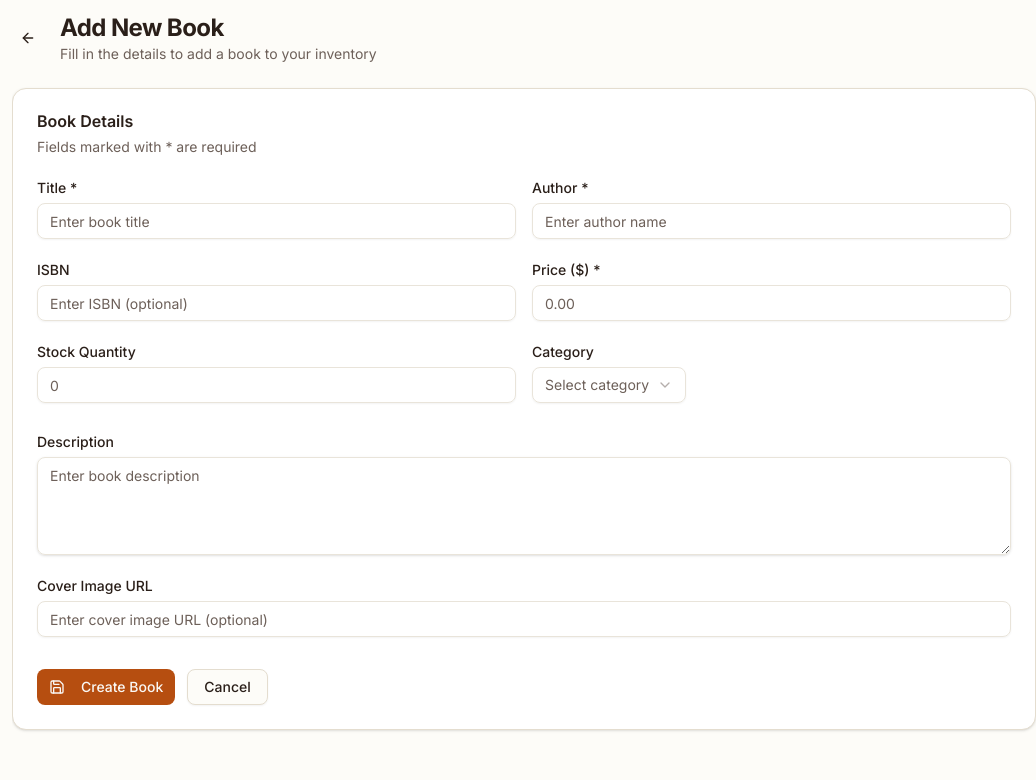
Test: CreateBookPage › should show "Creating..." while submitting
Type "New Book" into the field labelled "Title *".
click(276, 221); type("New Book")  # box [37, 203, 516, 239]
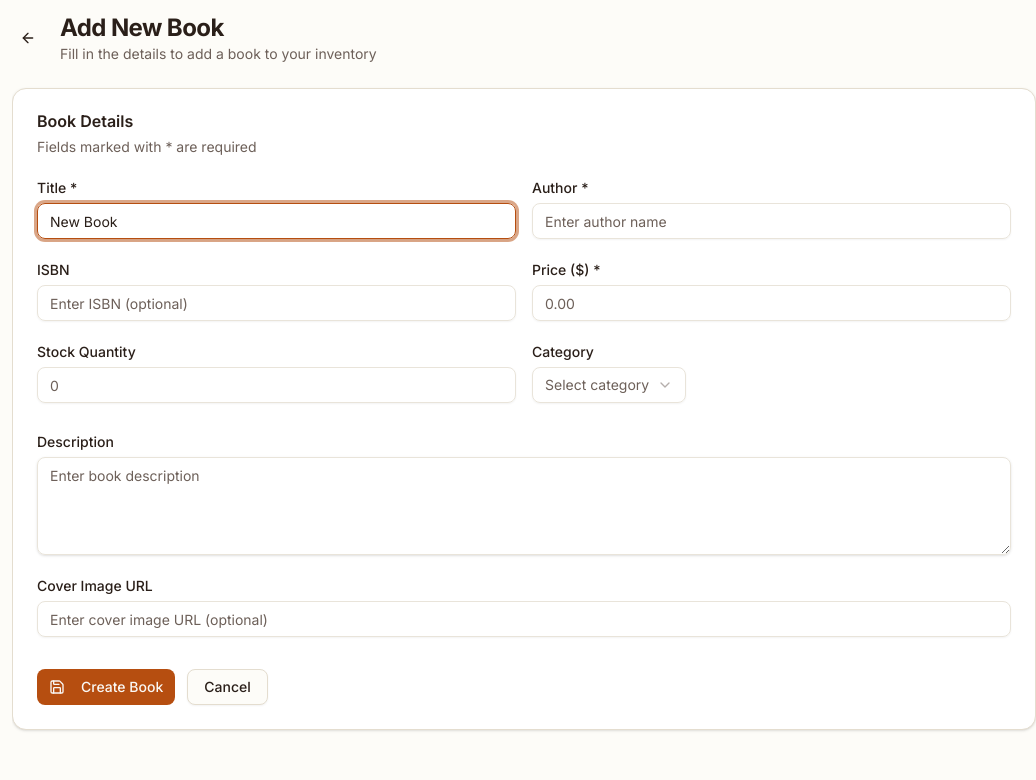
Type "New Author" into the field labelled "Author *".
click(772, 221); type("New Author")  # box [532, 203, 1011, 239]
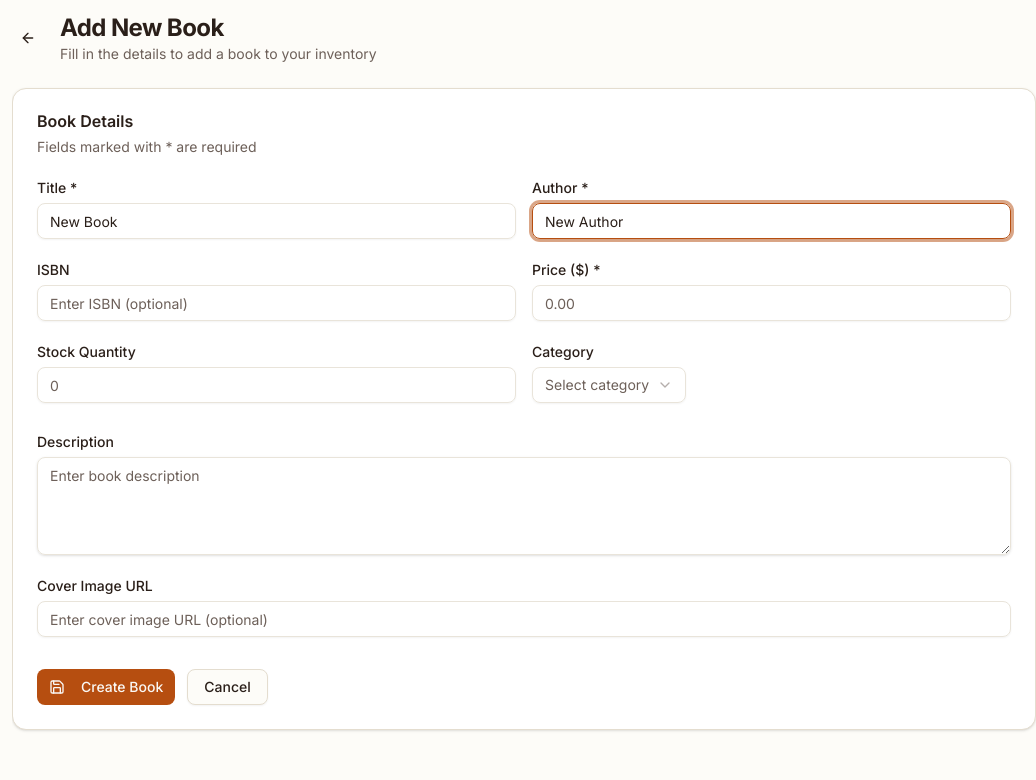
Type "19.99" into the number field labelled "Price ($) *".
click(772, 303); type("19.99")  # box [532, 285, 1011, 321]
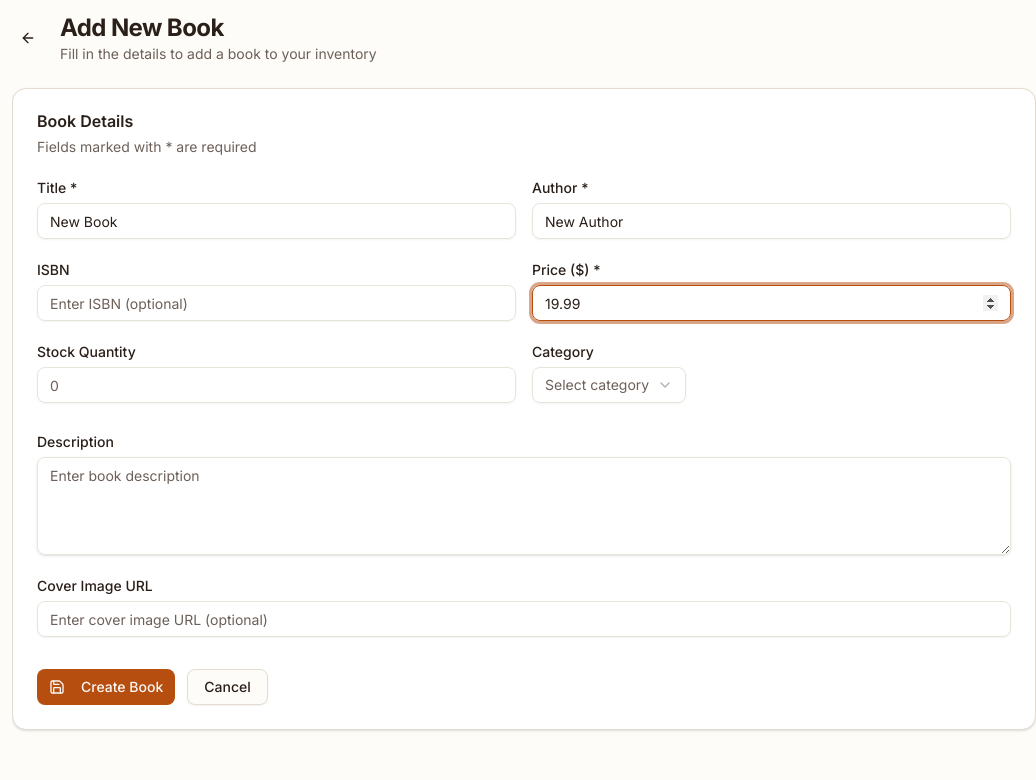
Click the button "Create Book".
click(106, 687)  # box [37, 669, 175, 705]
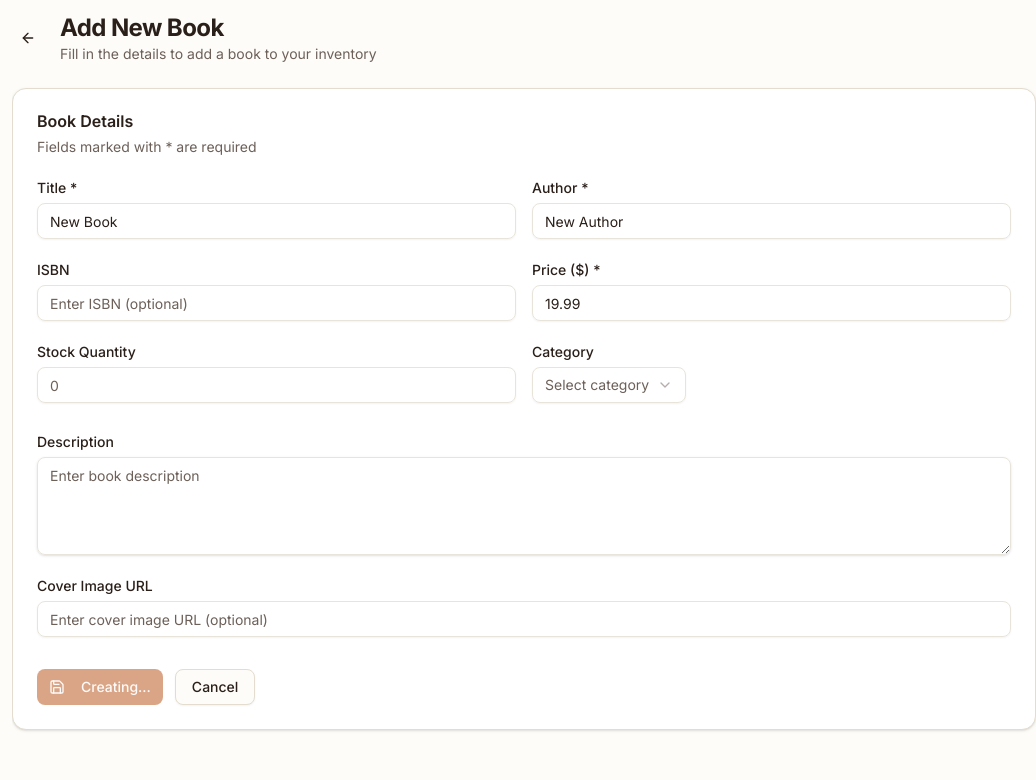
Expected: the button "Creating..." is shown, [37, 669, 163, 705]
